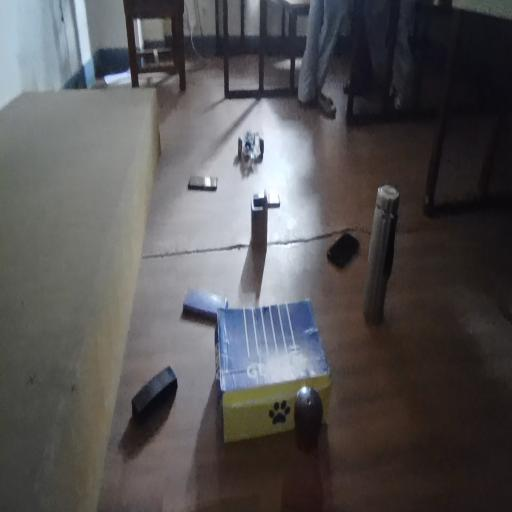car: (239, 118, 273, 188)
